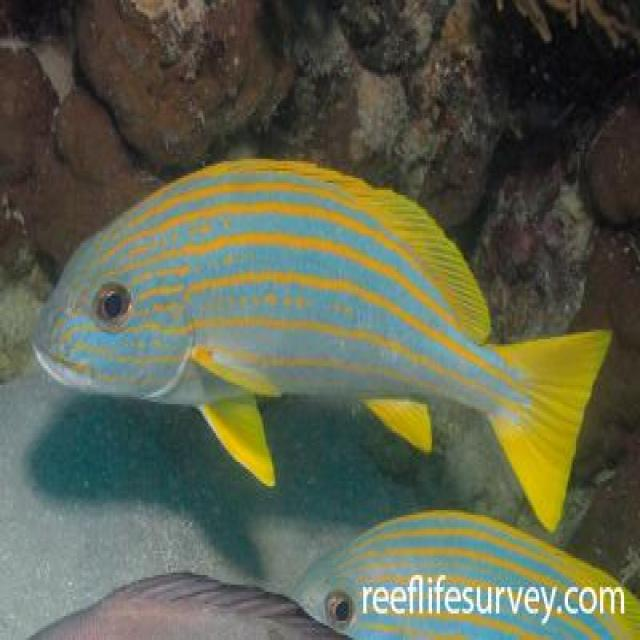RibbonedSweetlips: (29, 154, 613, 532)
